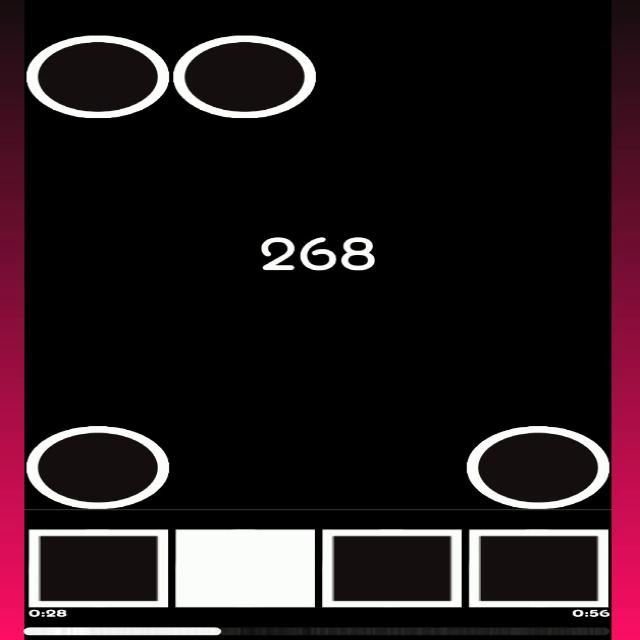note: (468, 420, 608, 510), (26, 424, 170, 511), (26, 30, 170, 116), (175, 31, 317, 117)
